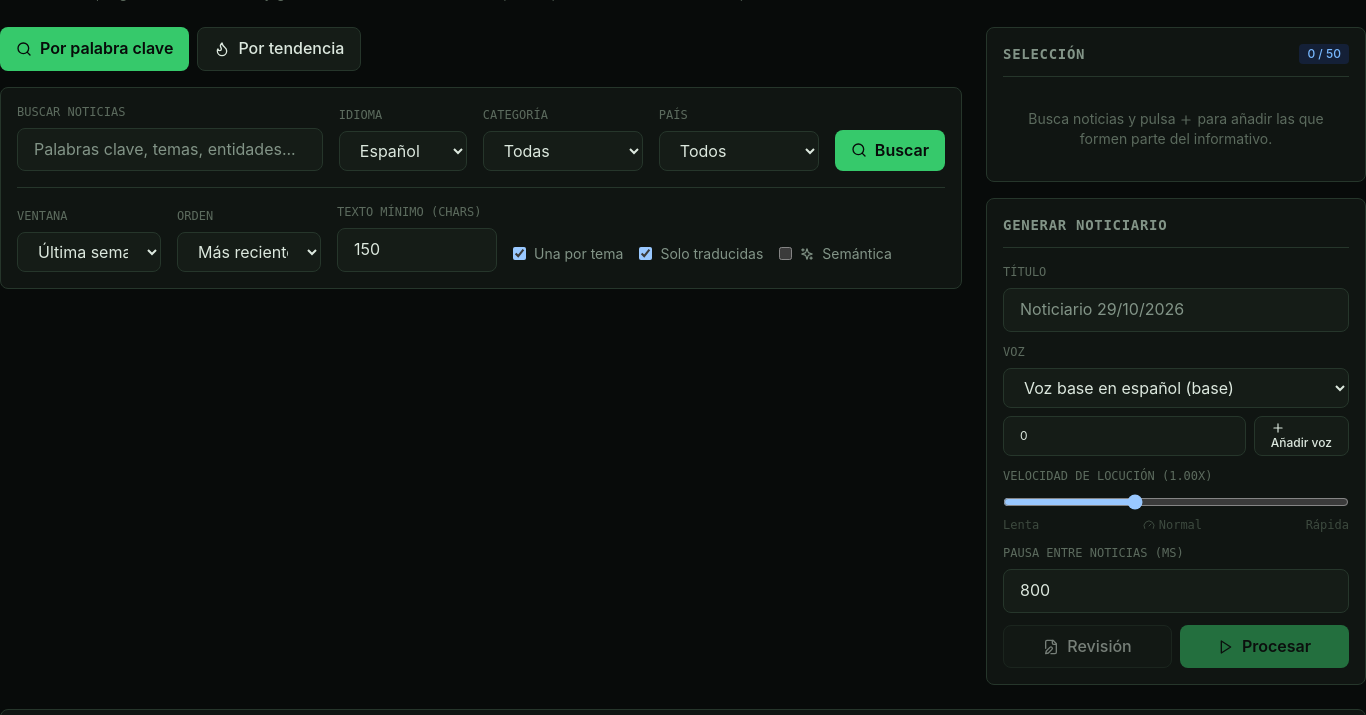
Test: Pagina de noticiario › no muestra la aprobacion final a un usuario normal
Type "economia" into the field with placeholder "Palabras clave, temas, entidades..." at (170, 149), box [17,128,323,171]
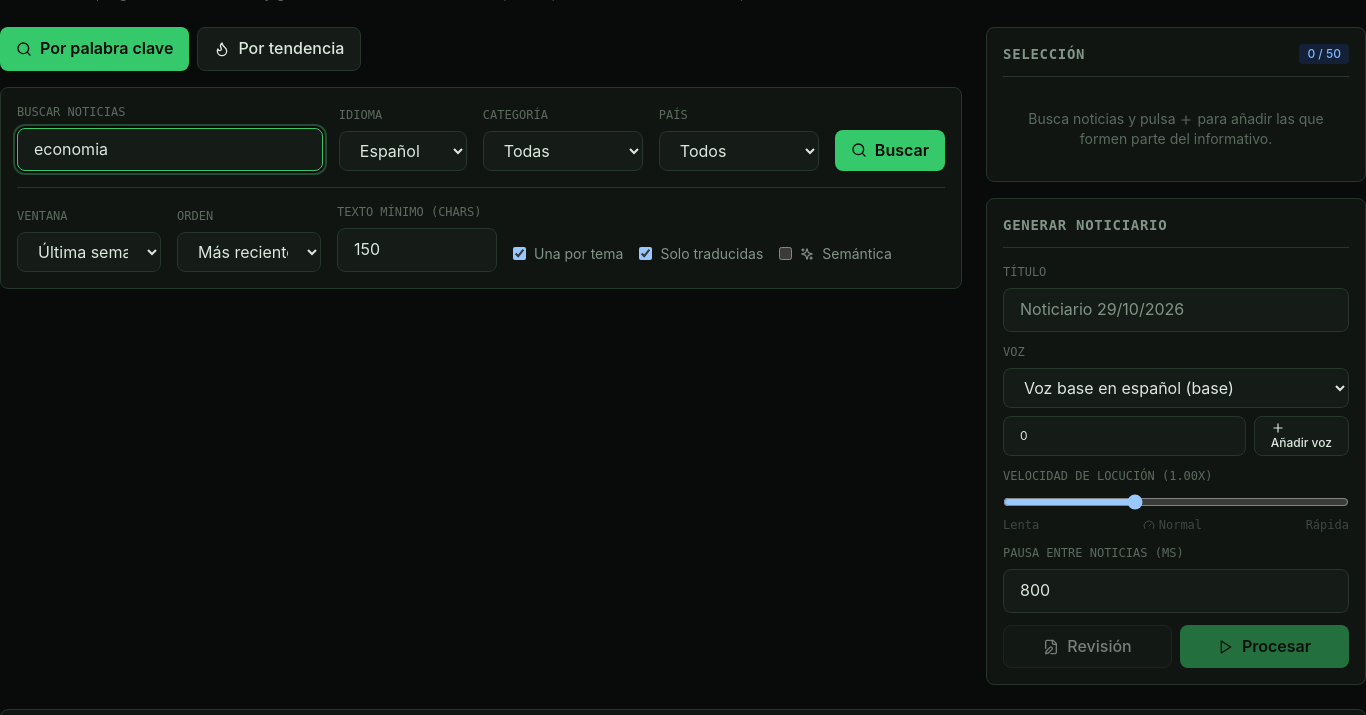
Click the button "Buscar" at (890, 150), box [835,130,945,171]
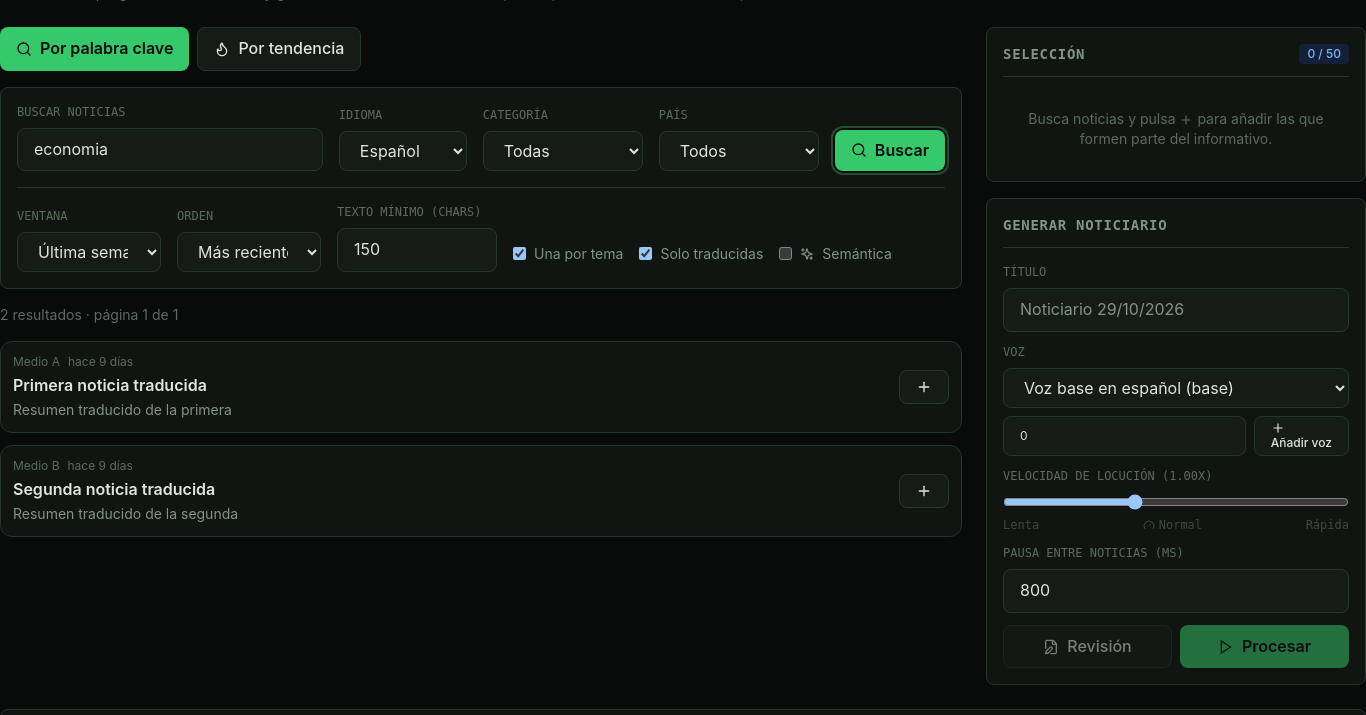
Expected: the heading "Primera noticia traducida" is shown, [13,375,207,395]
Click the button titled "Añadir al noticiario" in the row of "Resumen traducido de la primera" at (924, 387), box [899,370,949,404]
(page scrolled)
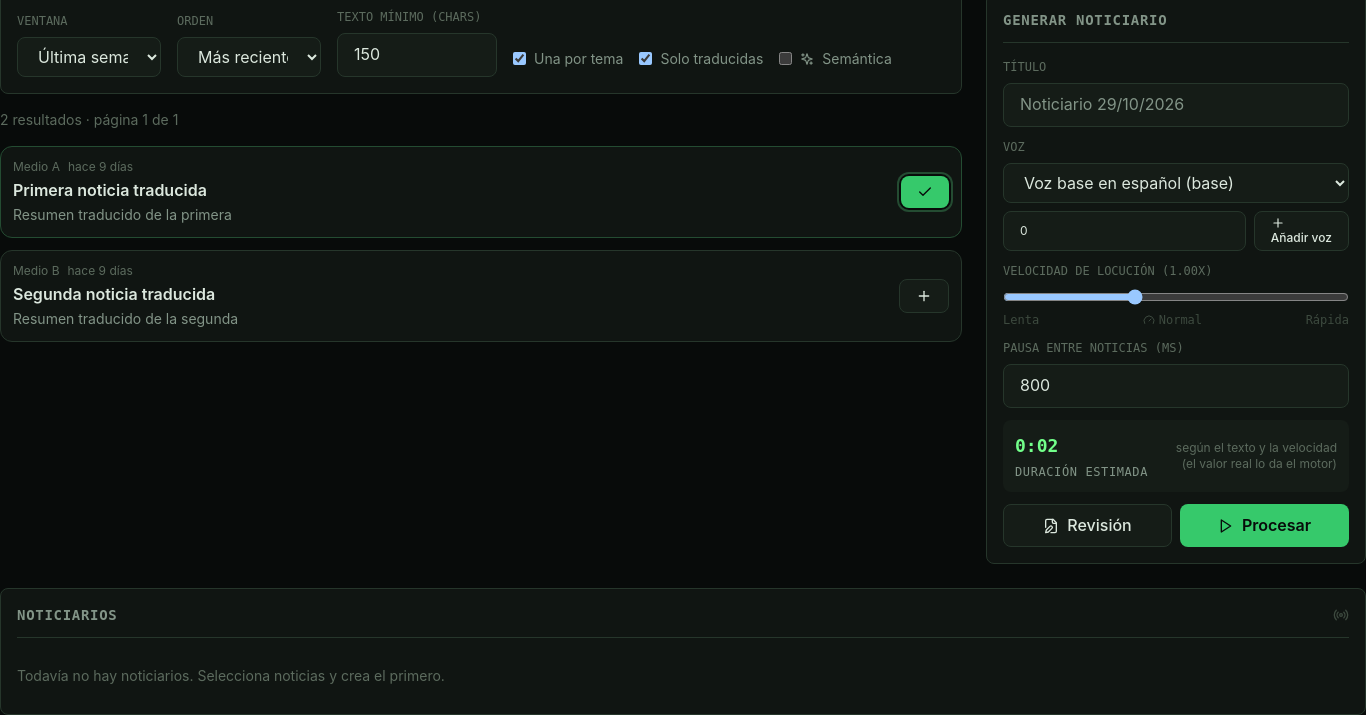
Click the button "Procesar" at (1264, 526), box [1180,504,1349,547]
(page scrolled)
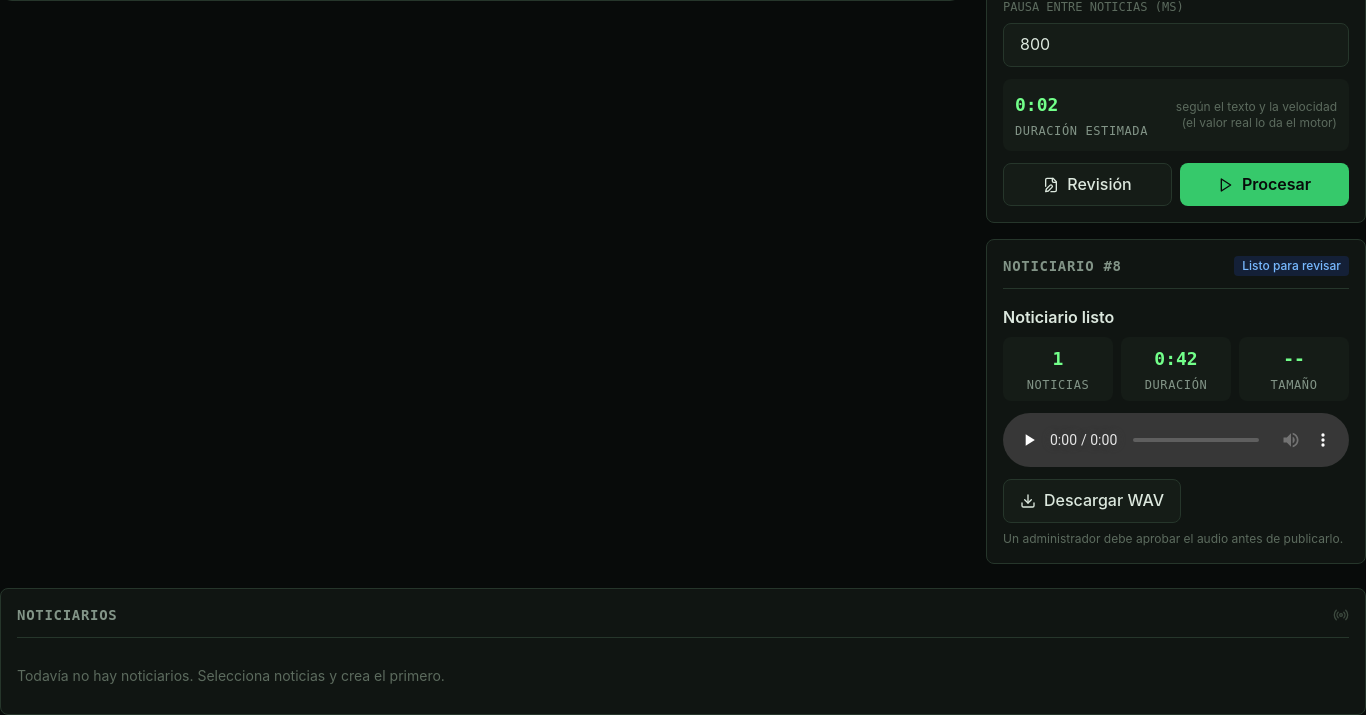
Expected: the heading "Noticiario listo" is shown, [1003,307,1114,327]
Expected: the text "Un administrador debe aprobar el audio antes de publicarlo." is shown, [1003,531,1349,547]
